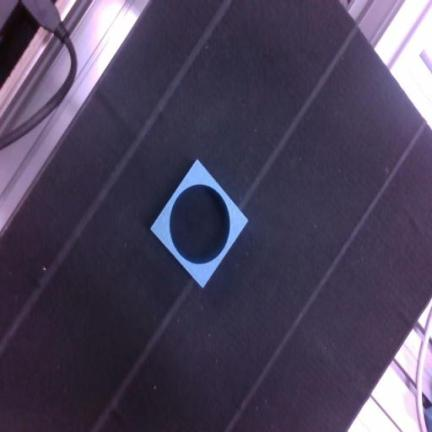square: (152, 161, 247, 287)
